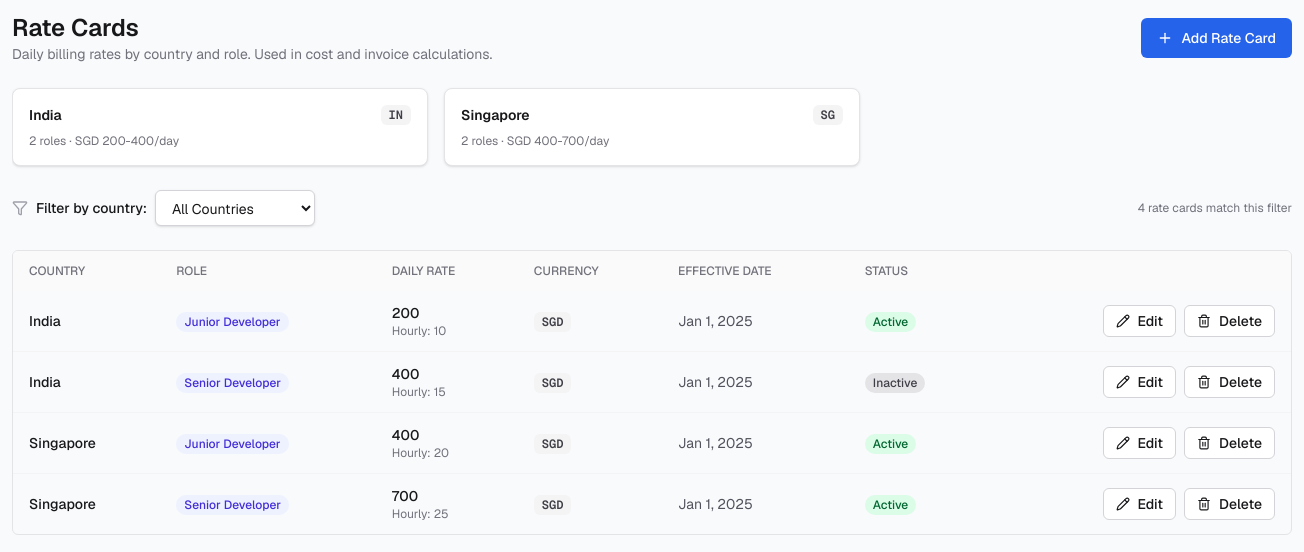
Scenario: RateCardsTable › filters the table via the country dropdown, synchronized with the cards
Expected: the text "2 roles · SGD 400-700/day" is shown, left=461, top=133, right=609, bottom=149
Select "India" in the dropdown labelled "Filter by country:": (235, 208) left=155, top=190, right=315, bottom=226
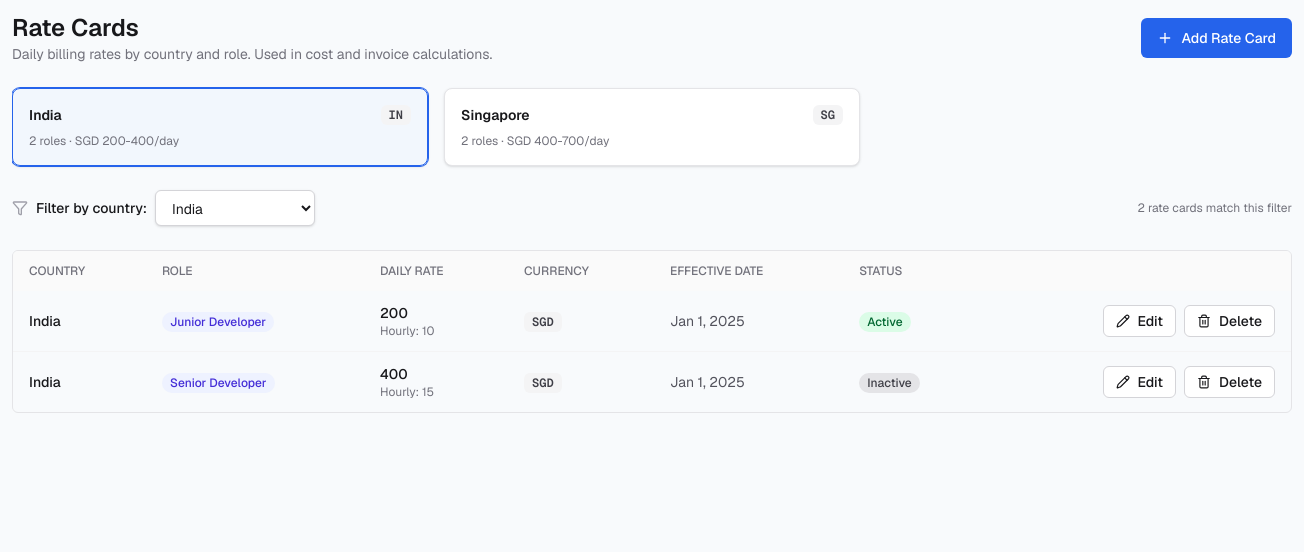
Expected: the text "2 rate cards match this filter" is shown, left=1138, top=200, right=1292, bottom=216
Expected: the text "India" is shown 2 times, left=13, top=291, right=146, bottom=352; left=13, top=352, right=146, bottom=412
Select "All Countries" in the dropdown labelled "Filter by country:": (235, 208) left=155, top=190, right=315, bottom=226
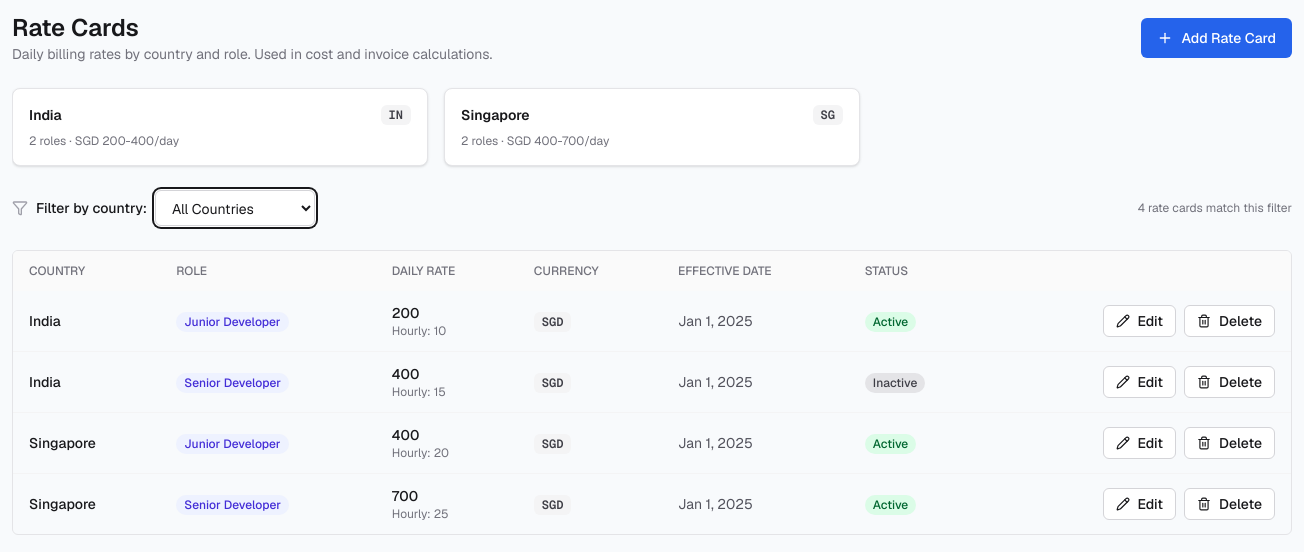
Expected: the text "4 rate cards match this filter" is shown, left=1138, top=200, right=1292, bottom=216
